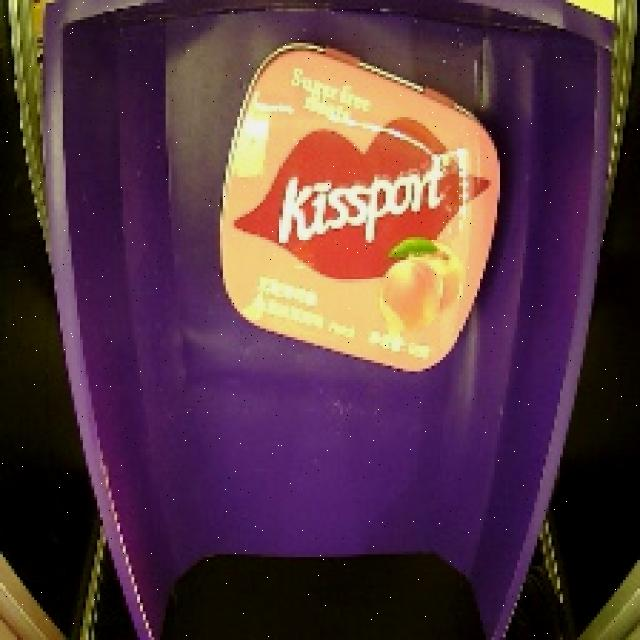metal: (207, 34, 515, 384)
